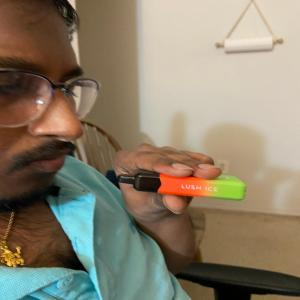Swift-E-Ciggirate: (109, 168, 256, 201)
